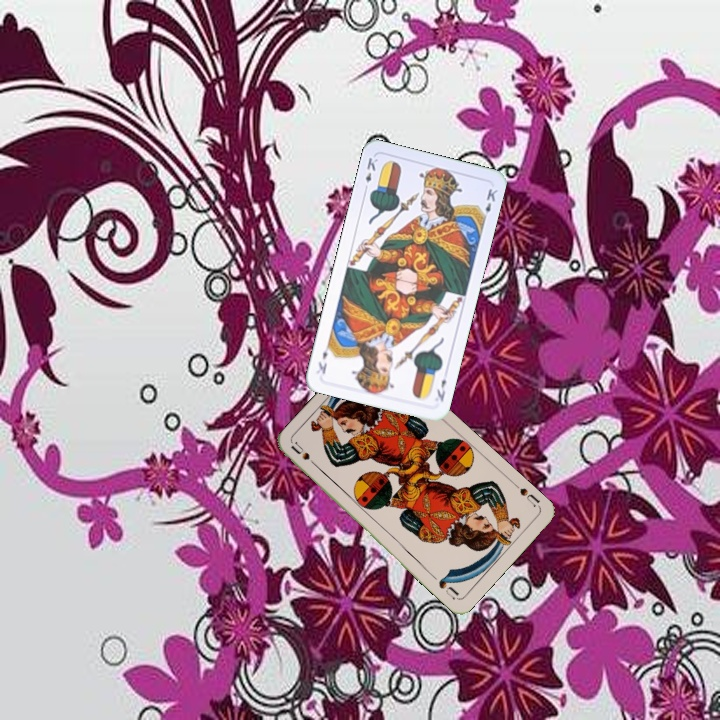EK: (360, 153, 380, 194), (433, 375, 449, 404)
SU: (287, 439, 322, 472), (516, 483, 543, 510)
